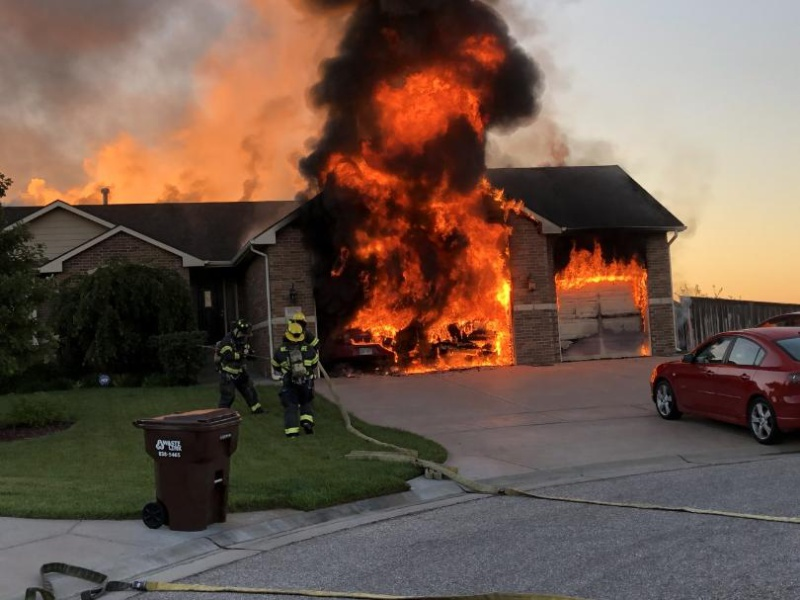fire: (323, 59, 512, 380), (548, 246, 652, 310)
